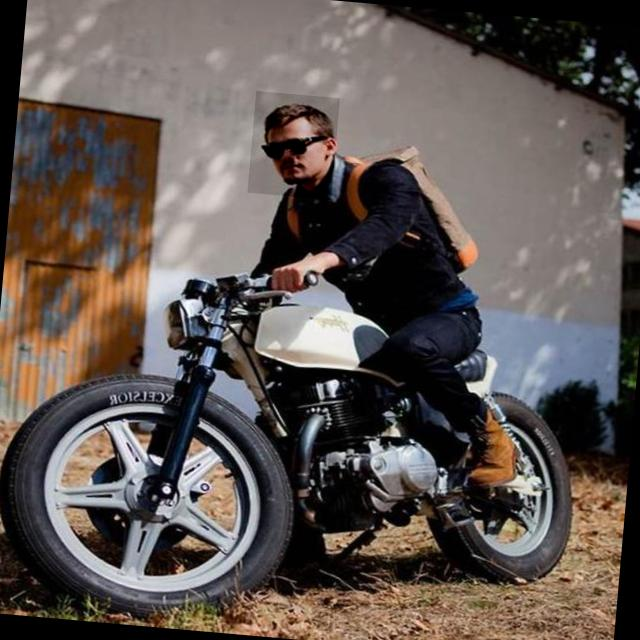without helmet: (247, 90, 339, 200)
